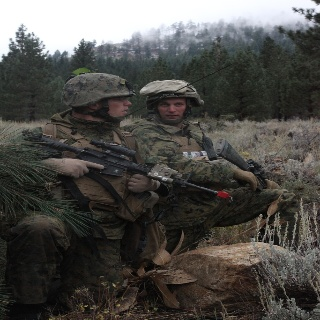rifle: (19, 129, 238, 205)
